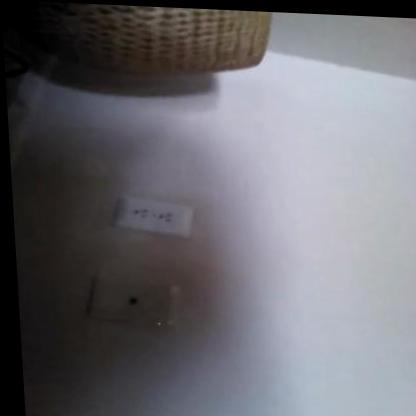OUTLET: (112, 195, 193, 237)
